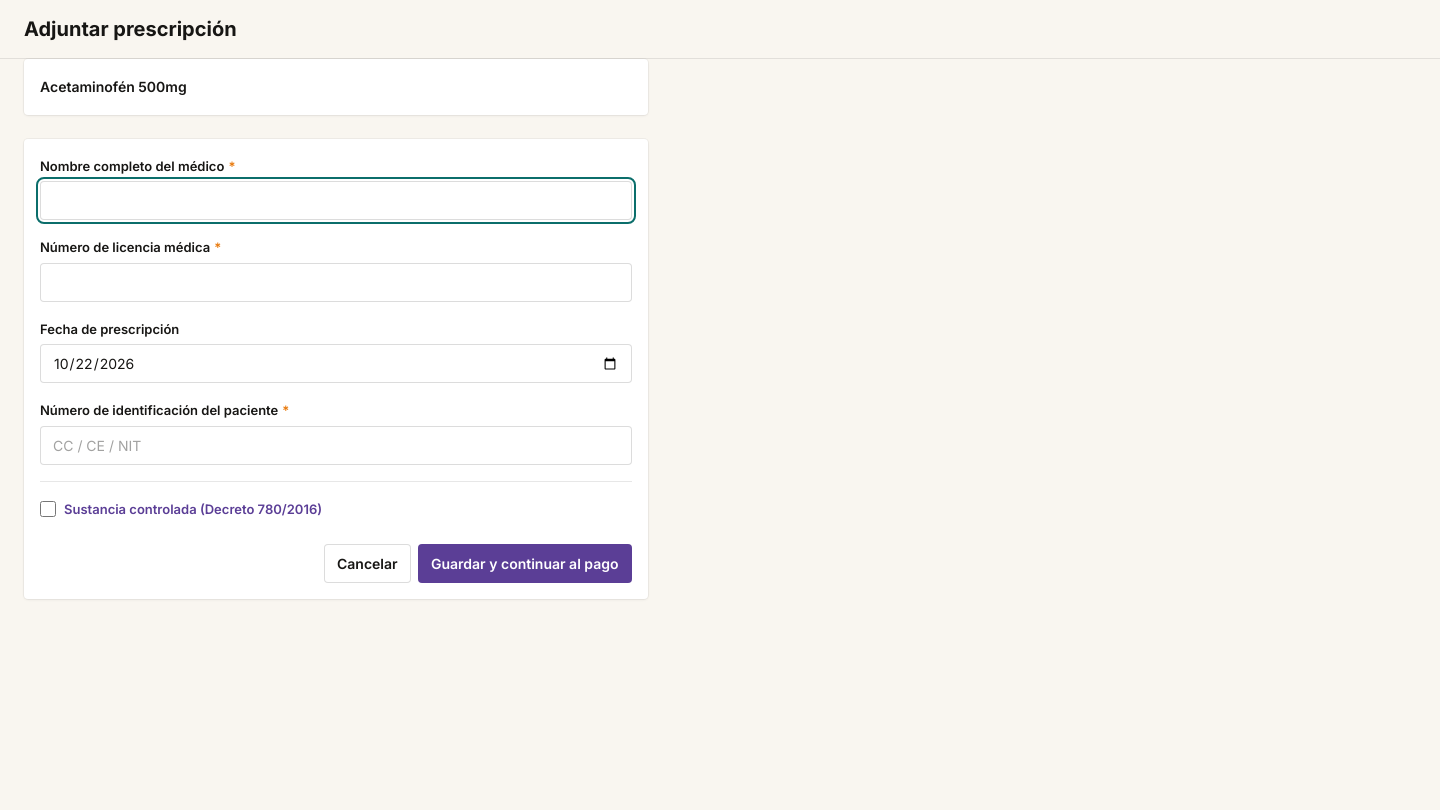
PrescriptionsPage › PRXP-03: validation › shows an error when physician name is empty and submit is clicked
This screenshot has width=1440, height=810.
Click the button "Guardar y continuar al pago" at [525, 564], box left=418, top=544, right=632, bottom=583
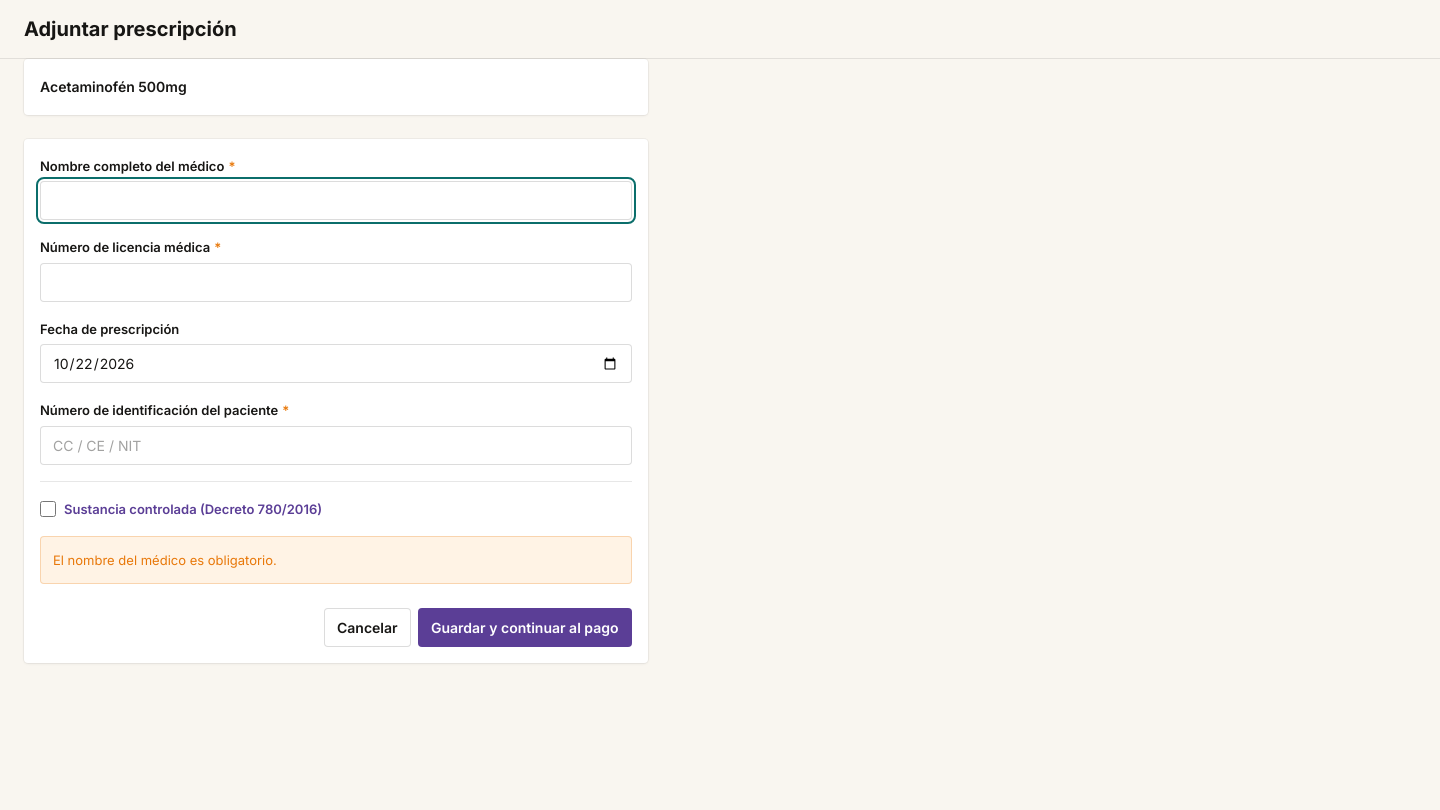
expect the text "El nombre del médico es obligatorio." is shown: met, box left=40, top=536, right=632, bottom=584
